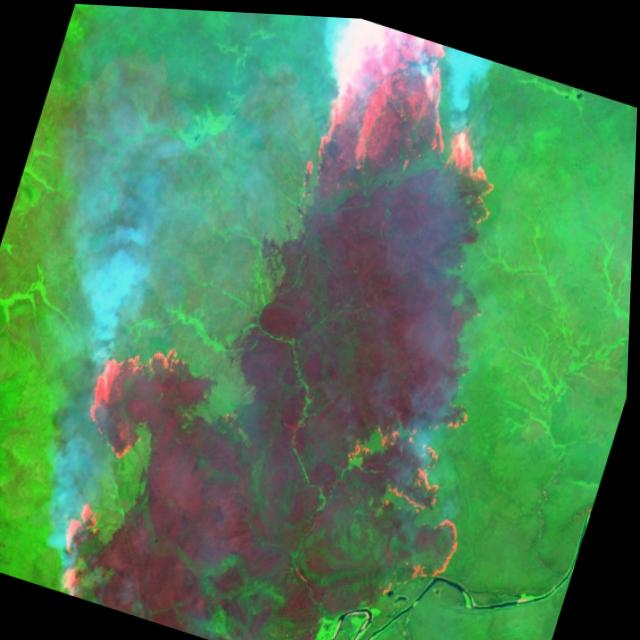fire: (273, 11, 544, 249), (29, 319, 205, 613), (313, 369, 503, 602)
